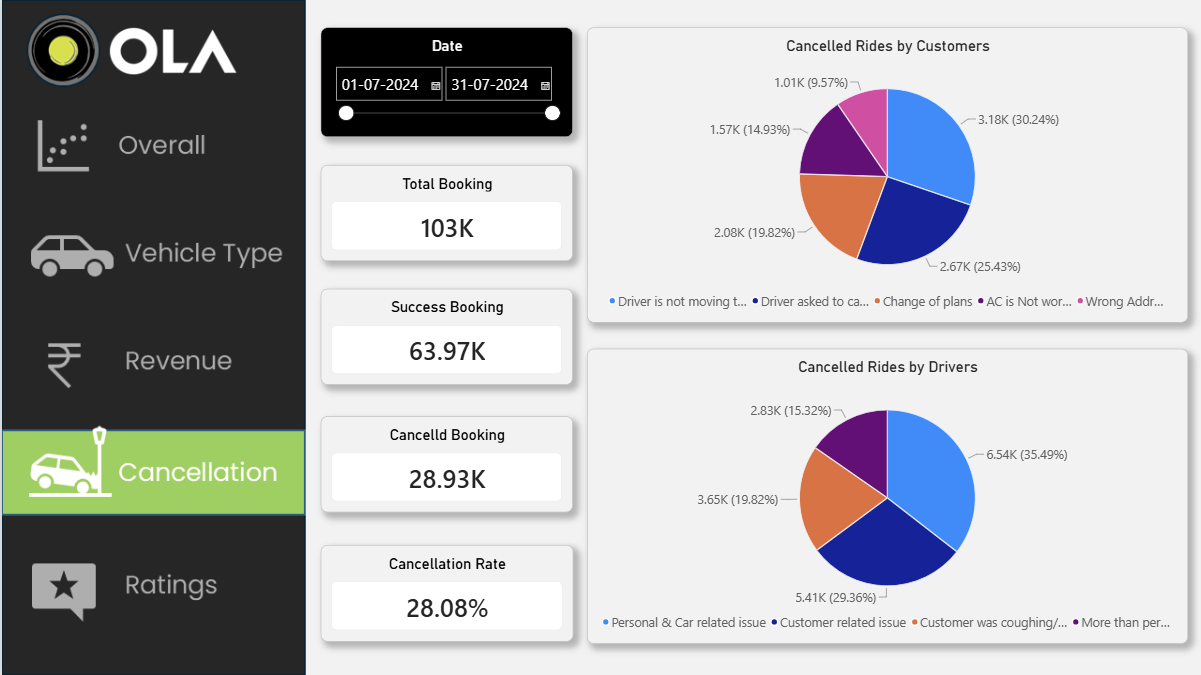

What the dashboard file says about the page in this screenshot:
{"tool":"powerbi","page":{"name":"Cancellation","canvas":[1920,1080],"ordinal":3},"visuals":[{"type":"actionButton","box":[0,340,484,134],"z":0},{"type":"actionButton","box":[0,514,484,134],"z":1000},{"type":"actionButton","box":[0,872,484,134],"z":2000},{"type":"actionButton","box":[0,170,484,134],"z":3000},{"type":"pieChart","title":"Cancelled Rides by Customers","fields":{"Category":["July.Canceled_Rides_by_Customer"],"Y":["CountNonNull(July.Canceled_Rides_by_Customer)"]},"box":[936.7,43.3,961.7,471.7],"z":4000},{"type":"pieChart","title":"Cancelled Rides by Drivers","fields":{"Category":["July.Canceled_Rides_by_Driver"],"Y":["CountNonNull(July.Canceled_Rides_by_Driver)"]},"box":[936.7,558.3,961.7,471.7],"z":5000},{"type":"slicer","title":"Date","fields":{"Values":["July.Date"]},"box":[510,43.3,403.3,175],"z":6000},{"type":"cardVisual","title":"Total Booking","fields":{"Data":["CountNonNull(July.Booking_ID)"]},"box":[510,264,403.3,153.3],"z":7000},{"type":"cardVisual","title":"Success Booking","fields":{"Data":["CountNonNull(July.Booking_ID)"]},"box":[510,462,403.3,153.3],"z":8000},{"type":"cardVisual","title":"Cancelld Booking","fields":{"Data":["CountNonNull(July.Booking_ID)"]},"box":[510,666,403.3,153.3],"z":9000},{"type":"cardVisual","title":"Cancellation Rate","fields":{"Data":["July.CancelledBookingPerct"]},"box":[510,872,404,154],"z":10000}]}

Visuals, with their boxes on the page's 1920x1080 design canvas (x1, y1, x2, y2). These are canvas units, not pixel positions in the 1201x675 screenshot, which may show the page scaled, cropped or inside an application window:
actionButton: (x1=0, y1=340, x2=484, y2=474)
actionButton: (x1=0, y1=514, x2=484, y2=648)
actionButton: (x1=0, y1=872, x2=484, y2=1006)
actionButton: (x1=0, y1=170, x2=484, y2=304)
"Cancelled Rides by Customers" pieChart: (x1=937, y1=43, x2=1898, y2=515)
"Cancelled Rides by Drivers" pieChart: (x1=937, y1=558, x2=1898, y2=1030)
"Date" slicer: (x1=510, y1=43, x2=913, y2=218)
"Total Booking" cardVisual: (x1=510, y1=264, x2=913, y2=417)
"Success Booking" cardVisual: (x1=510, y1=462, x2=913, y2=615)
"Cancelld Booking" cardVisual: (x1=510, y1=666, x2=913, y2=819)
"Cancellation Rate" cardVisual: (x1=510, y1=872, x2=914, y2=1026)
